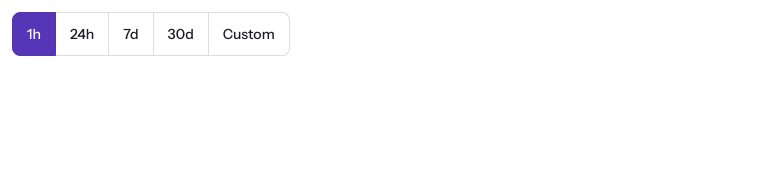
Test: words the out-of-order alert as it was told
Click the button "Custom" at (249, 34), box [208, 12, 290, 56]
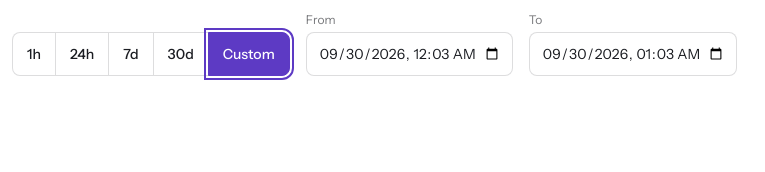
Replace the text in the field labelled "From" with "2026-01-02T03:04" at (409, 54), box [306, 32, 513, 76]
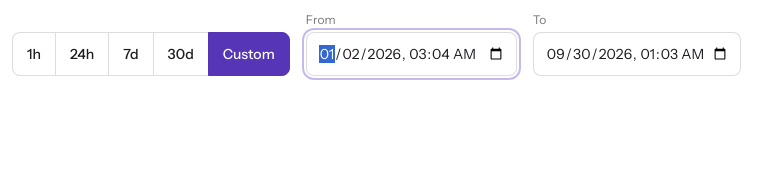
Replace the text in the field labelled "To" with "2026-01-02T02:00" at (637, 54), box [533, 32, 741, 76]
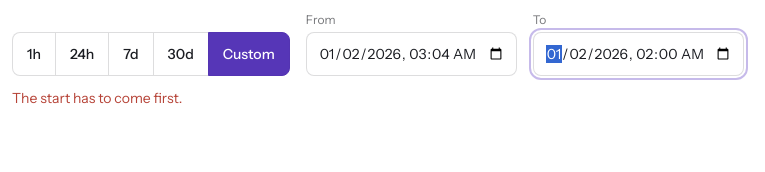
Result: the message reads "The start has to come first." at [12, 89, 182, 107]
